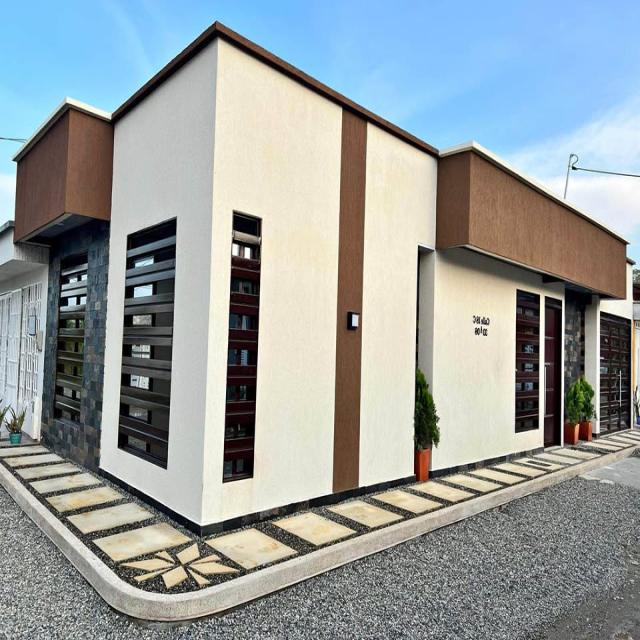Fachada: (15, 23, 633, 532)
